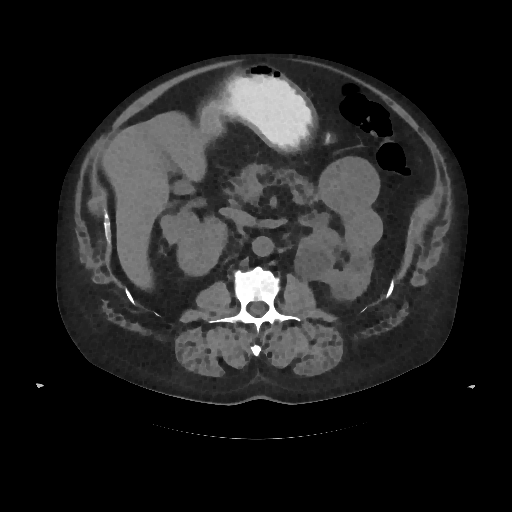Lesion: (315, 156, 383, 215)
